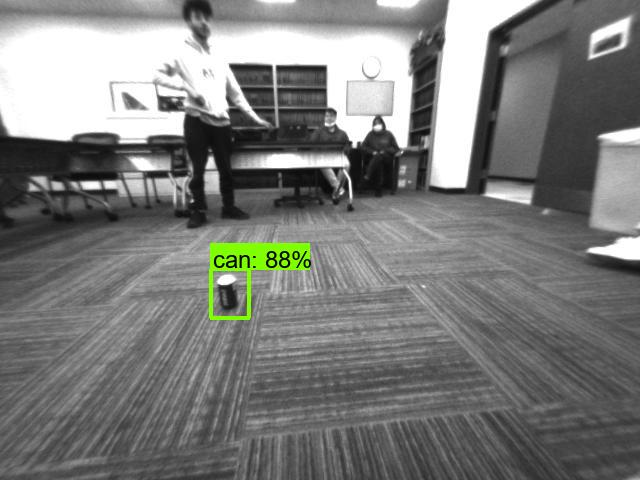can: (214, 271, 253, 319)
